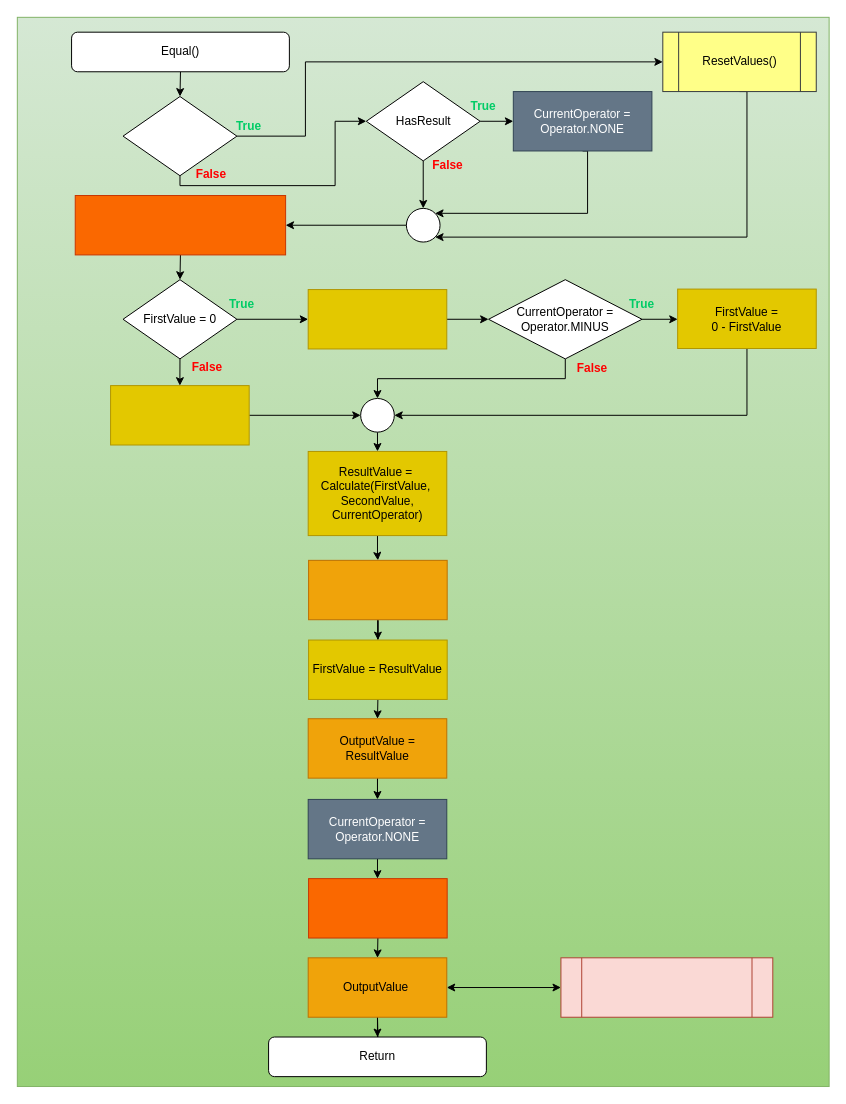
Image size: 846x1104. Some labels were removed from this diagram. Each missing label, with the box of its shape:
DisplayOutput(OutputValue): (560, 957, 773, 1017)
FirstValue = Double(inputValue): (307, 289, 447, 349)
HasResult = True: (308, 878, 447, 938)
HasResult And isOperator: (122, 96, 237, 176)
InputValue = ResultValue: (308, 559, 447, 620)
IsOperator = False: (74, 195, 286, 255)
SecondValue = Double(inputValue): (110, 385, 249, 445)
